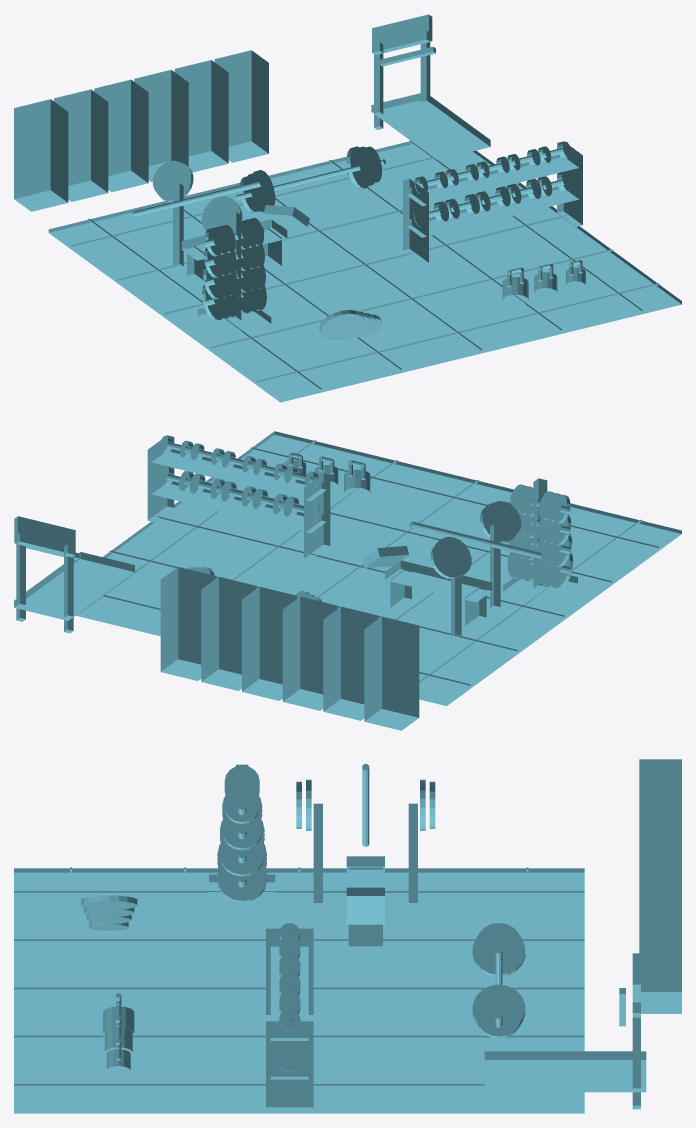
Rendered from gym2.glb.
3 views of the same model, one above another, from view 1: azimuth 30°, elevation 25°; view 2: azimuth 150°, elevation 25°; view 3: azimuth 270°, elevation 25° (orthographic). The views are drawn at different scales.
Parts seen in each view (by area): view 1: FloorMat, Lockers, DumbbellRack, Treadmill, PlateTree, BenchPress, Barbell, Kettlebells, LoosePlates; view 2: FloorMat, Lockers, DumbbellRack, BenchPress, Treadmill, PlateTree, Kettlebells; view 3: FloorMat, Lockers, DumbbellRack, Treadmill, BenchPress, PlateTree, Barbell, Kettlebells, LoosePlates.
Part boxes in pixels (left/top/right/bottom): FloorMat: left=48, top=140, right=681, bottom=402; Lockers: left=14, top=50, right=268, bottom=211; DumbbellRack: left=403, top=141, right=582, bottom=264; Treadmill: left=371, top=14, right=490, bottom=159; PlateTree: left=197, top=212, right=271, bottom=335; BenchPress: left=132, top=160, right=309, bottom=285; Barbell: left=236, top=146, right=385, bottom=212; Kettlebells: left=502, top=260, right=585, bottom=305; LoosePlates: left=319, top=310, right=382, bottom=340; FloorMat: left=76, top=431, right=681, bottom=705; Lockers: left=160, top=567, right=419, bottom=730; DumbbellRack: left=147, top=435, right=330, bottom=560; BenchPress: left=362, top=501, right=541, bottom=638; Treadmill: left=14, top=516, right=134, bottom=633; PlateTree: left=503, top=478, right=577, bottom=603; Kettlebells: left=286, top=452, right=370, bottom=498; FloorMat: left=14, top=867, right=584, bottom=1113; Lockers: left=639, top=759, right=681, bottom=1013; DumbbellRack: left=266, top=923, right=313, bottom=1111; Treadmill: left=484, top=953, right=646, bottom=1109; BenchPress: left=296, top=763, right=435, bottom=950; PlateTree: left=209, top=764, right=275, bottom=910; Barbell: left=472, top=923, right=525, bottom=1038; Kettlebells: left=103, top=993, right=134, bottom=1076; LoosePlates: left=81, top=895, right=137, bottom=930.
Bounding box in the file's own units: 6.1 × 1.55 × 7.02.
